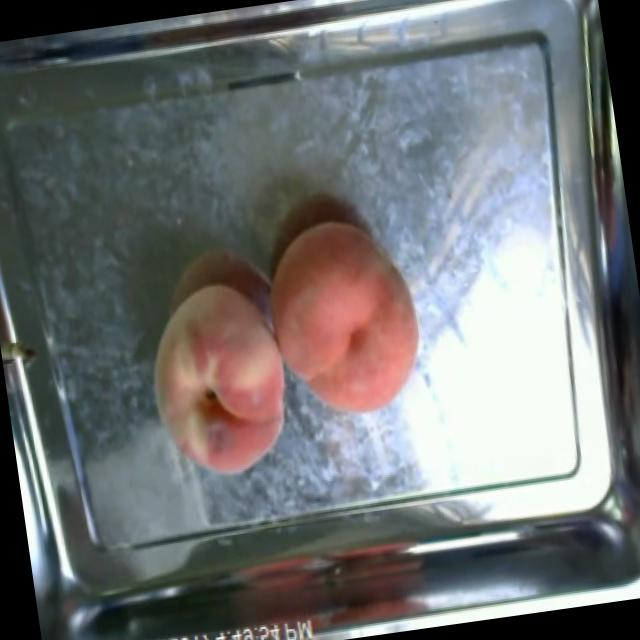Fruit: (251, 200, 440, 436), (133, 268, 306, 492)
